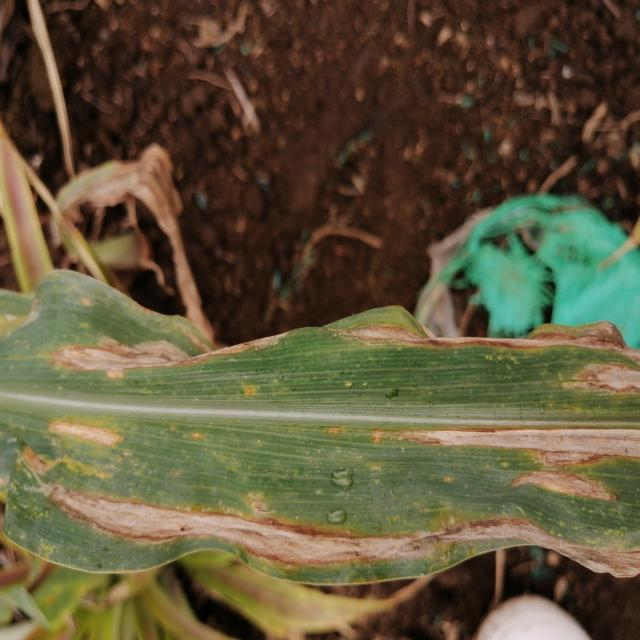Corn_Leaf_Blight: (0, 270, 640, 572)
